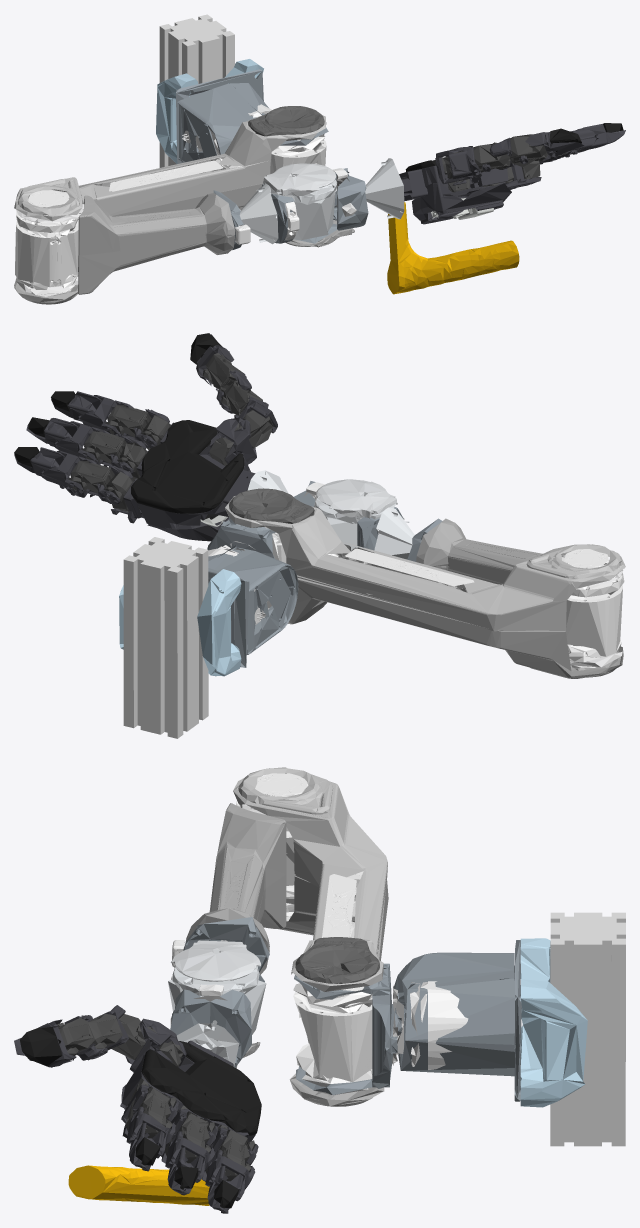
Rendered from robot.plain.glb.
3 views of the same model, one above another, from view 1: azimuth 30°, elevation 25°; view 2: azimuth 150°, elevation 25°; view 3: azimuth 270°, elevation 25° (orthographic). The views are drawn at different scales.
Visible parts, largest first — view 1: link3__m1, link2__m3, base_link__m1, link2__m0, link6__m0, base_link__m2, palm_base__m1, base_link__m3, link4__m0, link2__m4, link4__m2, link2__m1 (+16 smaller); view 2: link2__m3, base_link__m2, link2__m1, palm_base__m2, base_link__m1, link2__m0, link3__m1, base_link__m3, palm_base__m1, link4__m2, link2__m4, link1__m1 (+18 smaller); view 3: base_link__m2, base_link__m1, link2__m3, base_link__m3, link3__m1, link1__m0, palm_base__m2, link6__m0, link1__m1, link2__m0, link2__m4, link5__m1 (+18 smaller).
Part boxes in pixels (<box>): link3__m1: <box>78,193,234,294</box>; link2__m3: <box>14,114,326,221</box>; base_link__m1: <box>176,69,268,163</box>; link2__m0: <box>15,160,223,289</box>; link6__m0: <box>387,202,519,294</box>; base_link__m2: <box>159,14,234,167</box>; palm_base__m1: <box>399,165,511,224</box>; base_link__m3: <box>156,59,263,163</box>; link4__m0: <box>263,179,337,240</box>; link2__m4: <box>248,106,324,136</box>; link4__m2: <box>263,163,336,196</box>; link2__m1: <box>14,183,263,304</box>; link2__m3: <box>225,496,625,631</box>; base_link__m2: <box>123,537,208,738</box>; link2__m1: <box>288,575,623,678</box>; palm_base__m2: <box>131,420,244,519</box>; base_link__m1: <box>208,545,298,667</box>; link2__m0: <box>345,548,622,662</box>; link3__m1: <box>416,518,580,584</box>; base_link__m3: <box>119,569,241,676</box>; palm_base__m1: <box>137,439,255,541</box>; link4__m2: <box>316,479,396,518</box>; link2__m4: <box>229,488,314,523</box>; link1__m1: <box>207,517,275,558</box>; base_link__m2: <box>550,912,625,1146</box>; base_link__m1: <box>393,940,521,1101</box>; link2__m3: <box>233,767,387,991</box>; base_link__m3: <box>520,938,587,1107</box>; link3__m1: <box>185,803,286,974</box>; link1__m0: <box>293,983,372,1086</box>; palm_base__m2: <box>141,1041,261,1135</box>; link6__m0: <box>68,1165,209,1205</box>; link1__m1: <box>294,963,401,1094</box>; link2__m0: <box>255,773,356,937</box>; link2__m4: <box>295,937,379,983</box>; link5__m1: <box>170,989,251,1067</box>.
Bounding box in the file's own units: 0.5985 × 0.1842 × 0.4122.
